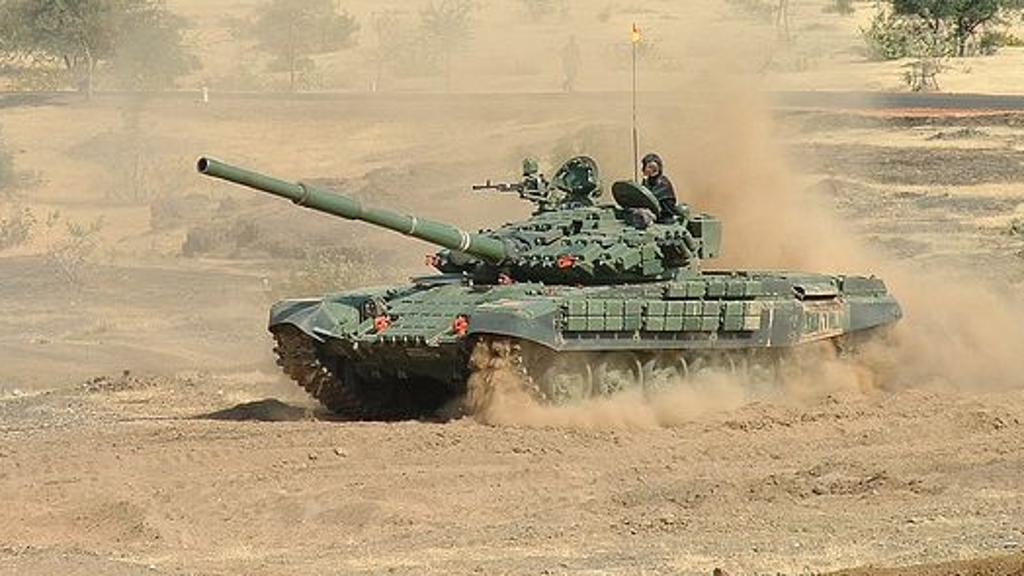TANK: (188, 145, 905, 420)
